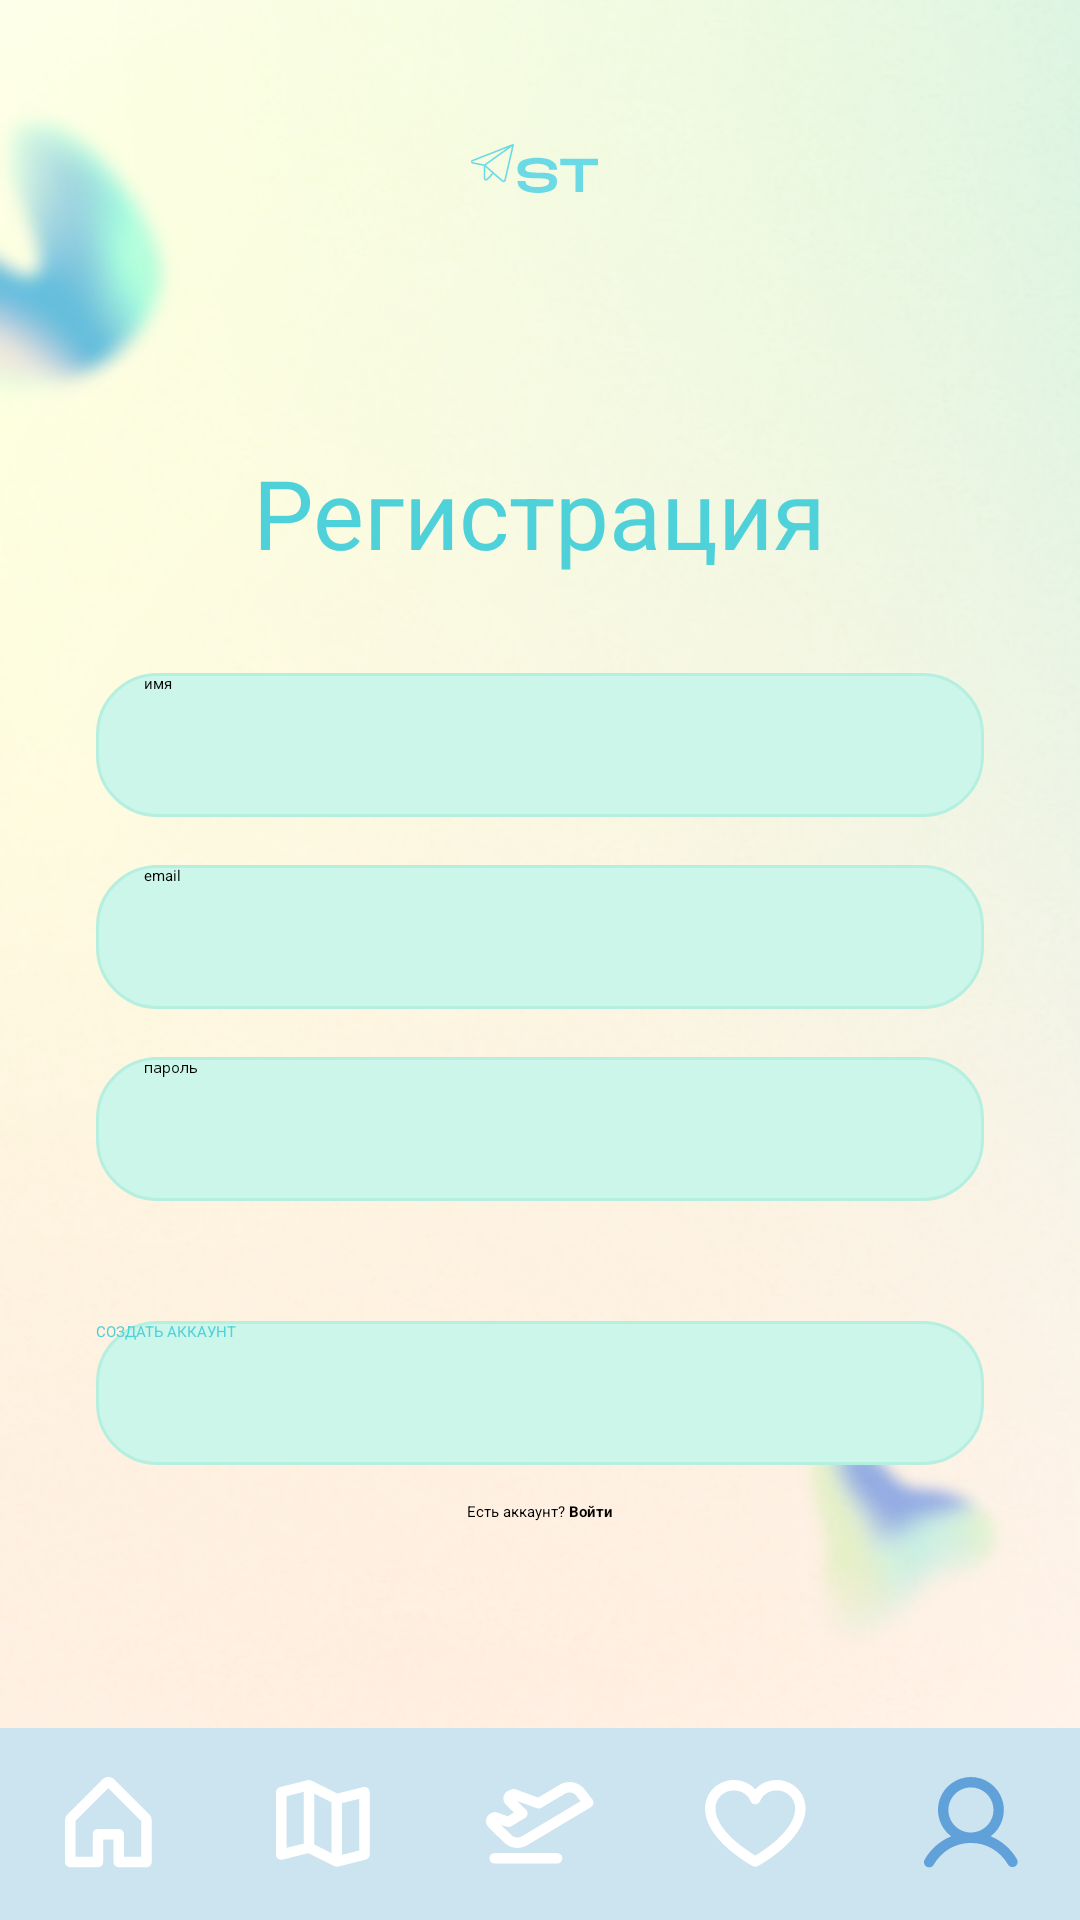

Locate icon controls on the screen. Image size 1080w x 1920h, boxes as [x1,y1,x2,y2].
heart: [705,1780,806,1867]
house: [65,1777,152,1867]
map: [276,1780,370,1867]
plane: [486,1782,594,1864]
user: [924,1777,1018,1868]
